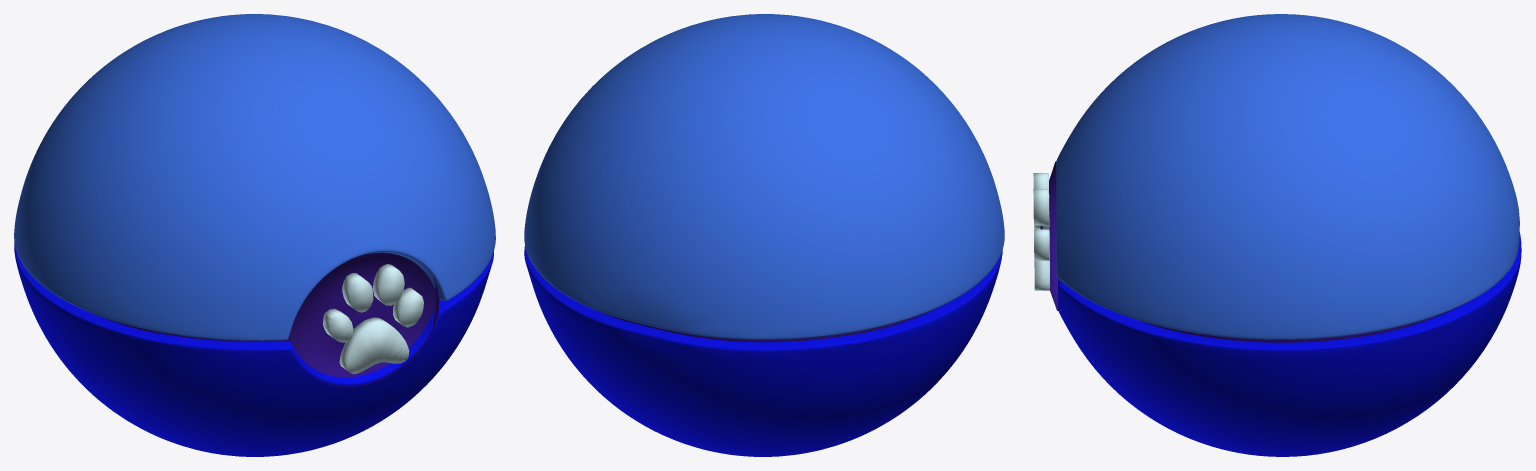
The model's file is BALL WITH ANIMATION.fbx.
3 renders of one model, left to right at view 1: azimuth 30°, elevation 25°; view 2: azimuth 150°, elevation 25°; view 3: azimuth 270°, elevation 25°, orthographic.
Visible parts, largest first — view 1: Sphere.002, Sphere; view 2: Sphere.002, Sphere; view 3: Sphere.002, Sphere.
Boxes of the visible parts, x1=… form: Sphere.002: x1=14, y1=14, x2=495, y2=386; Sphere: x1=14, y1=242, x2=493, y2=456; Sphere.002: x1=524, y1=14, x2=1004, y2=339; Sphere: x1=524, y1=246, x2=1002, y2=456; Sphere.002: x1=1033, y1=14, x2=1519, y2=339; Sphere: x1=1058, y1=232, x2=1521, y2=456.
Bounding box in the file's own units: 197 × 180 × 200.
